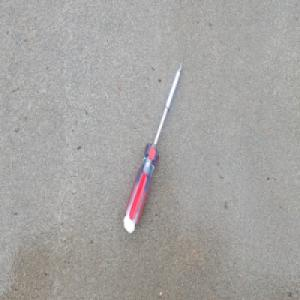Screwdriver: (122, 60, 184, 235)
